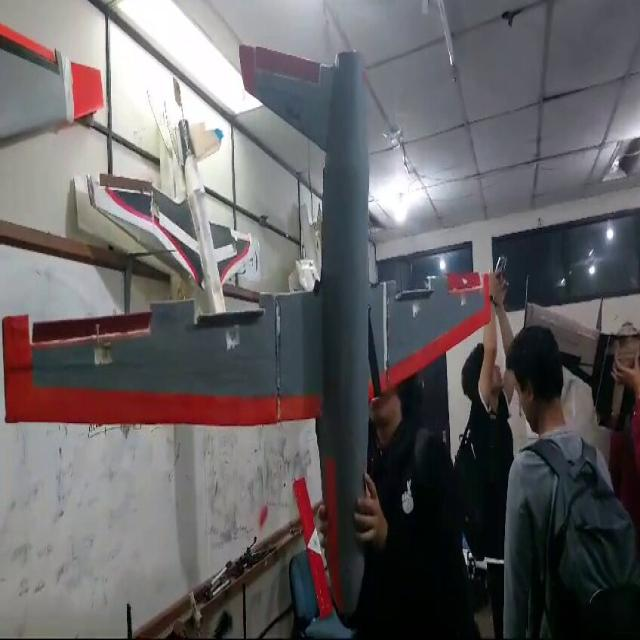plane: (1, 41, 508, 632)
